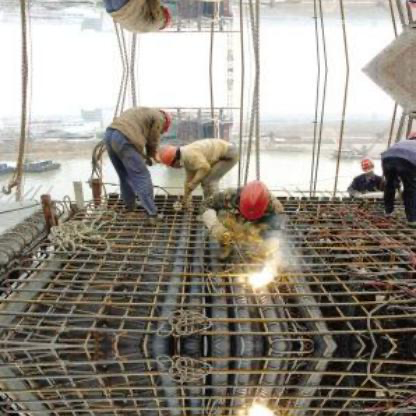helmet: (234, 176, 275, 222), (156, 143, 188, 168), (152, 106, 174, 132), (152, 6, 174, 32), (357, 156, 377, 176)
